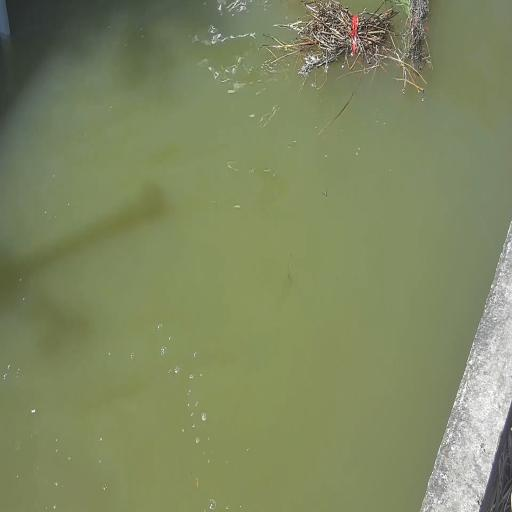twig: (298, 0, 395, 98), (391, 0, 435, 87)
